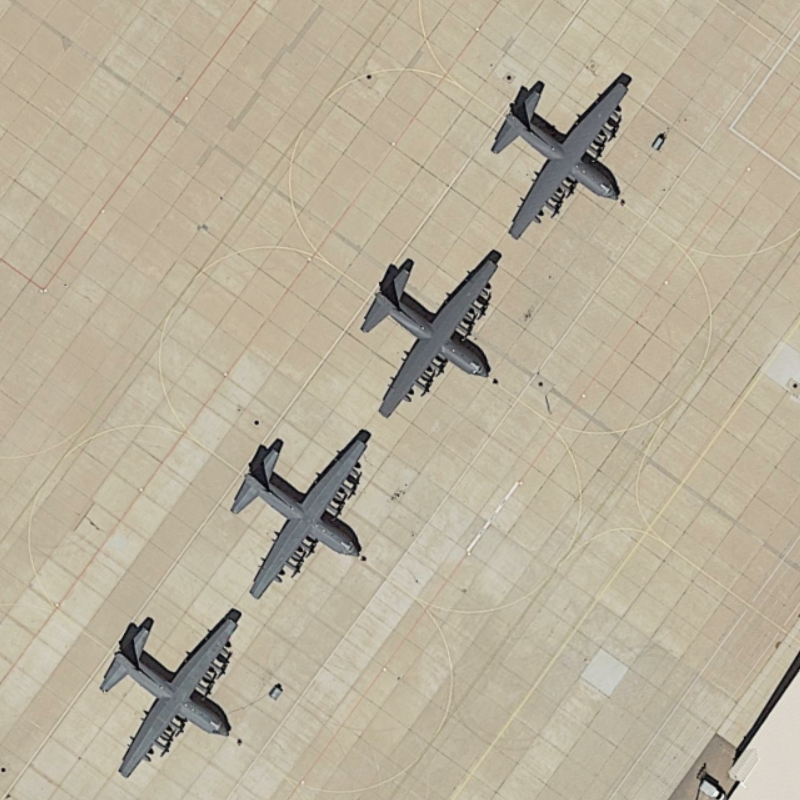A2: (226, 428, 376, 605), (91, 611, 246, 782), (490, 71, 639, 242), (353, 252, 504, 418)
